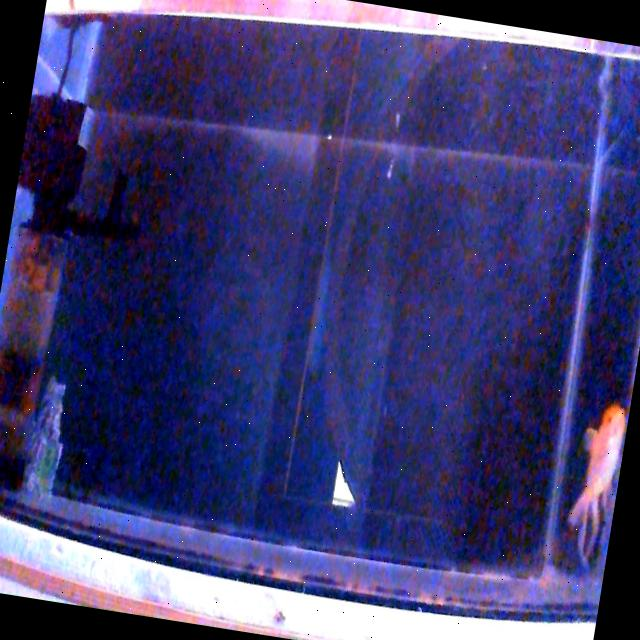fish: (570, 401, 628, 516)
